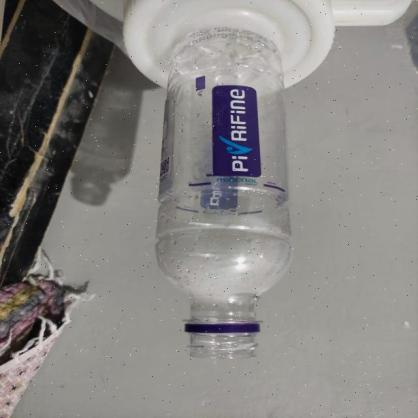bottle: (150, 22, 289, 378)
label: (152, 67, 288, 213)
